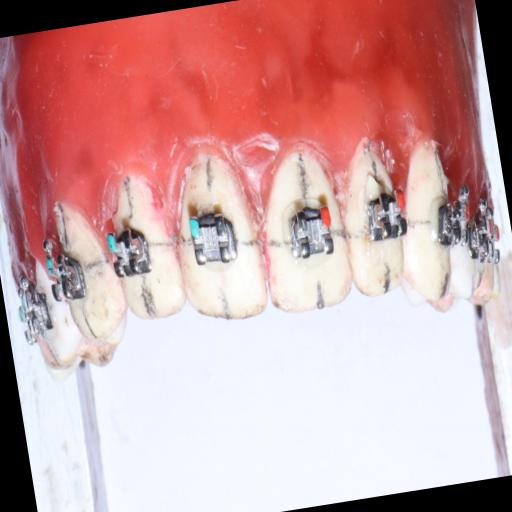incorrect_brace: (278, 192, 340, 270), (186, 198, 240, 274)
